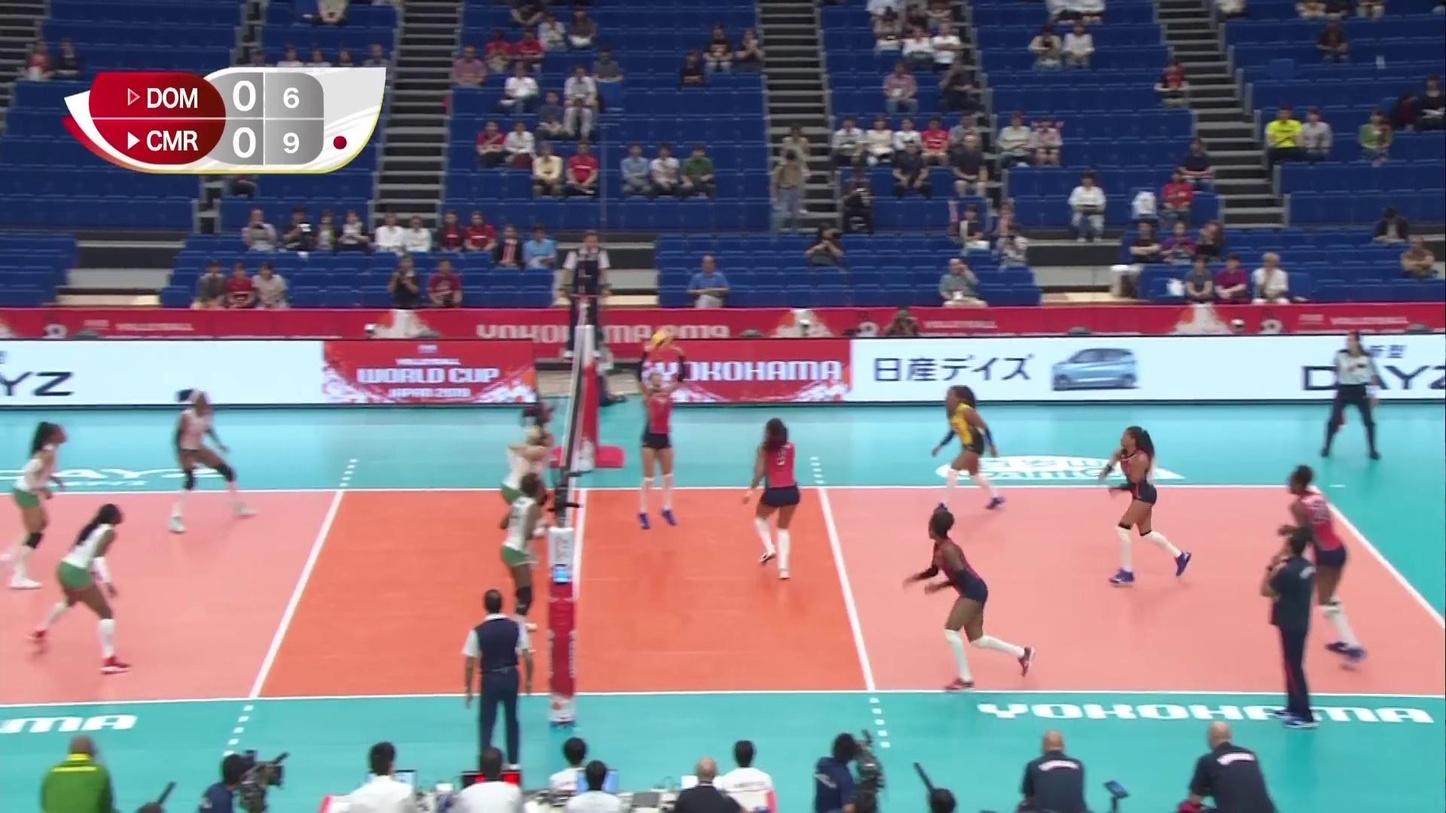player: (903, 509, 1040, 692), (23, 504, 135, 672), (1278, 467, 1370, 669), (1096, 424, 1188, 584), (169, 387, 256, 527), (0, 421, 71, 586), (927, 386, 1007, 509), (500, 425, 555, 601), (747, 418, 802, 584), (638, 346, 684, 528), (503, 473, 546, 663), (514, 391, 556, 547)
refree: (462, 587, 536, 777), (1321, 330, 1386, 459), (565, 230, 609, 359)
